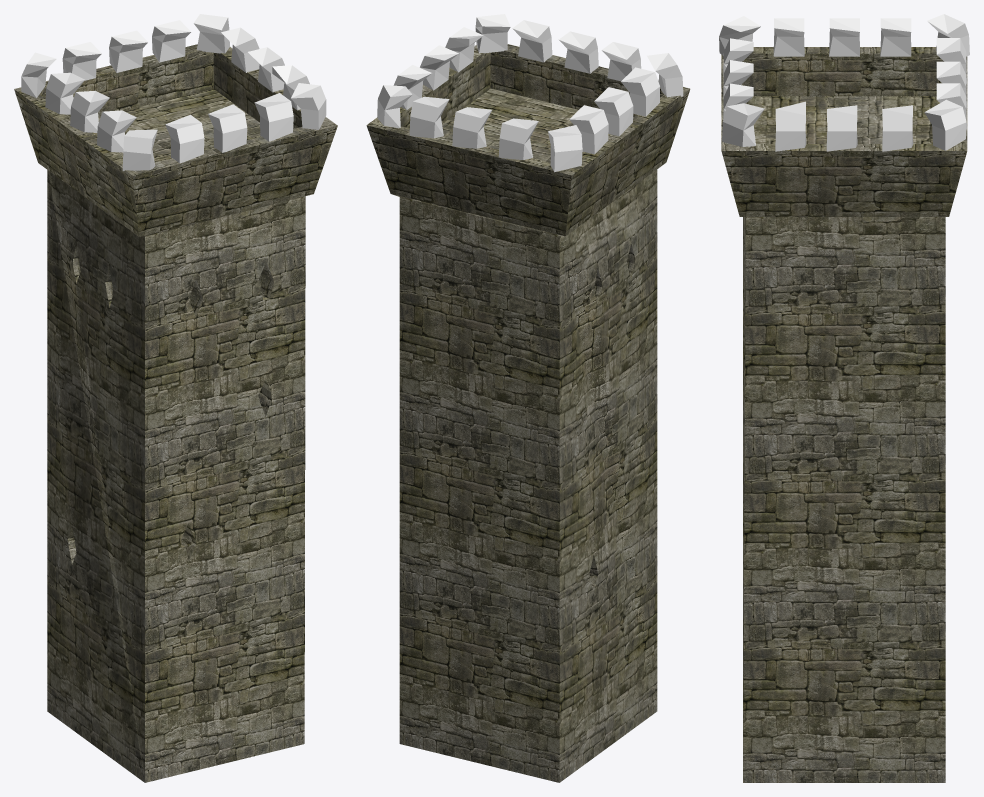
Rendered from tower1_LOD1.fbx.
3 renders of one model, left to right at view 1: azimuth 30°, elevation 25°; view 2: azimuth 150°, elevation 25°; view 3: azimuth 270°, elevation 25°, orthographic. The views are drawn at different scales.
Parts seen in each view (by area): view 1: Default_Layer; view 2: Default_Layer; view 3: Default_Layer.
Boxes of the visible parts, x1,y1,x2,y2 form: Default_Layer: [14, 14, 337, 782]; Default_Layer: [366, 14, 690, 782]; Default_Layer: [719, 14, 969, 782].
Bounding box in the file's own units: 1034 × 3122 × 1044.
